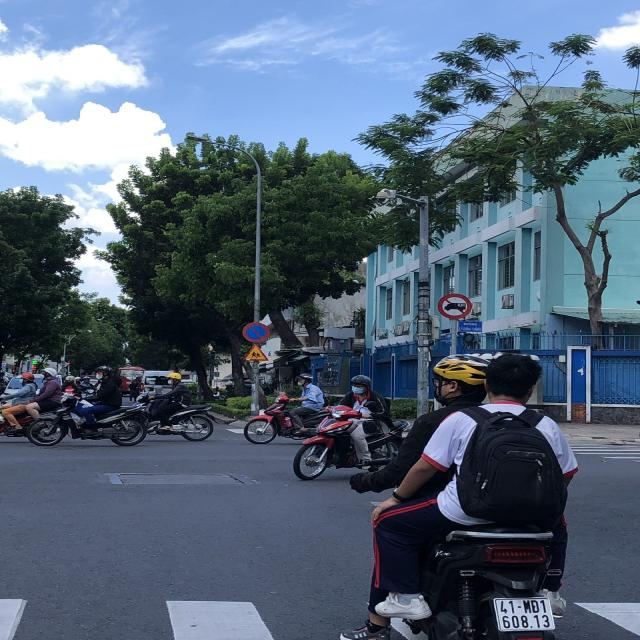Bien bao cam xe oto: (437, 291, 474, 318)
Bien bao tre em: (243, 344, 270, 363)
